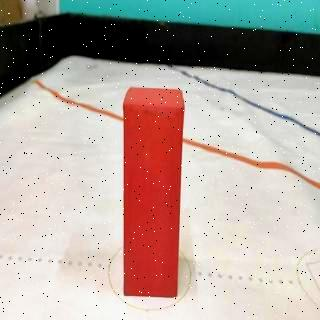redbox: (123, 86, 185, 296)
